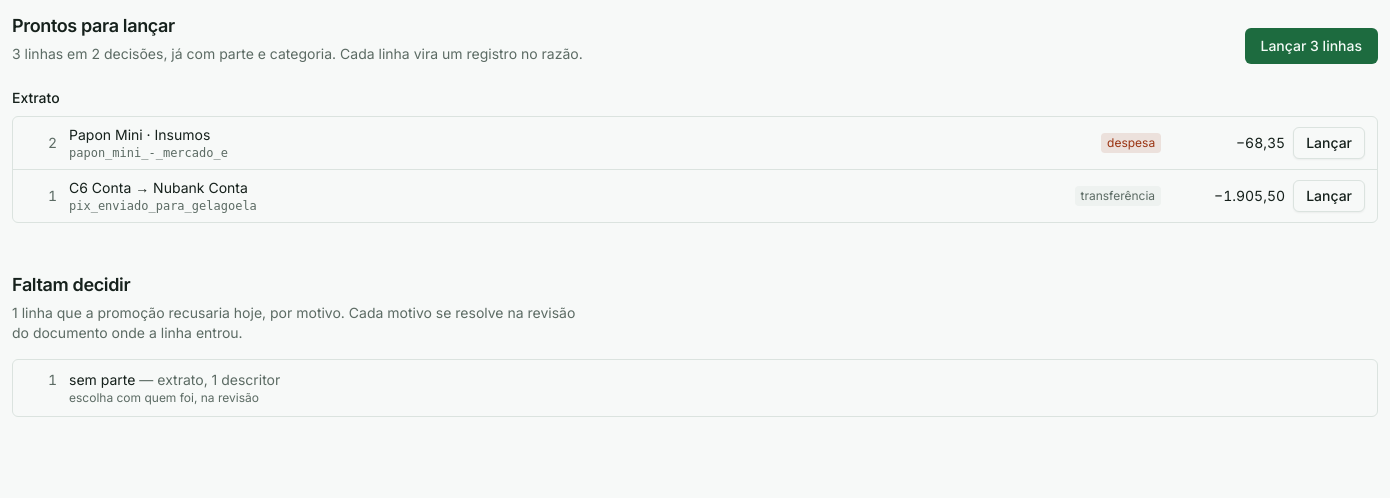
Test: promoting › keeps going past a refusal and quotes it verbatim
Expected: the heading "Prontos para lançar" is shown, x1=12 y1=15 x2=175 y2=36
Click the button "Lançar 3 linhas": click(1311, 46) x1=1244 y1=28 x2=1378 y2=64
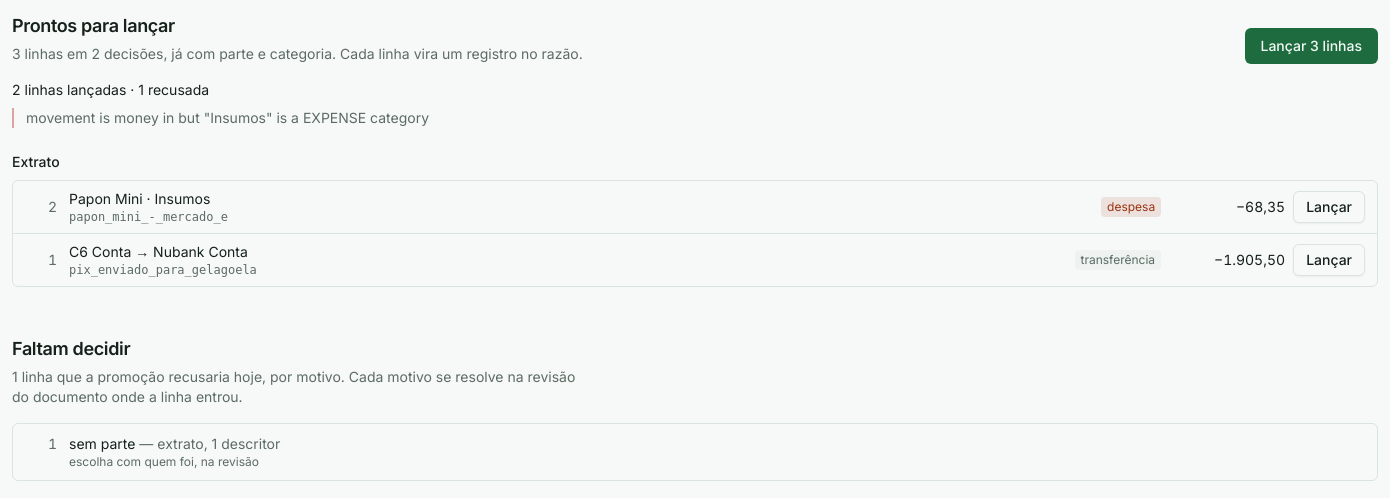
Now the element that starts with "linhas lançadas" shows "1 recusada", box x1=126 y1=81 x2=209 y2=98
Now the list item "movement is money in but \"Insumos\" is a EXPENSE category" is shown, box x1=26 y1=109 x2=429 y2=126
